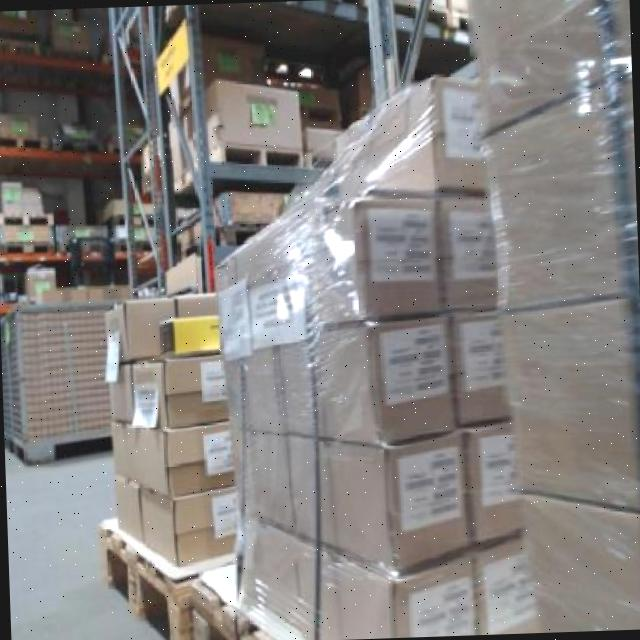pallet: (95, 501, 201, 640)
